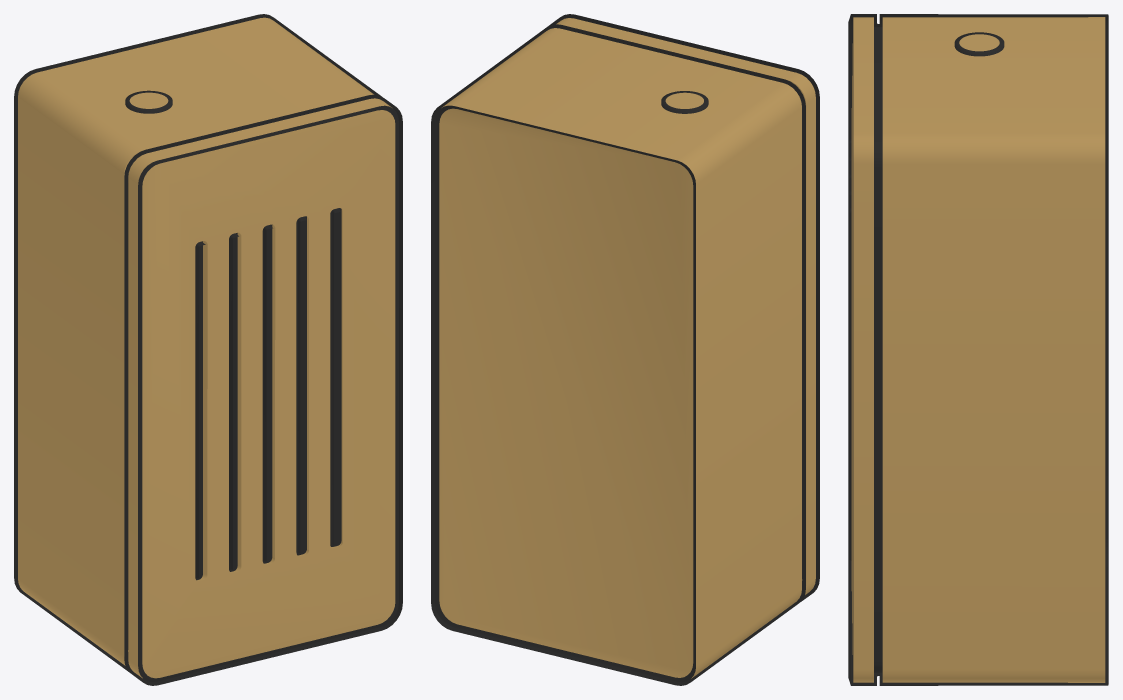
The model's file is Speaker.glb.
3 renders of one model, left to right at view 1: azimuth 30°, elevation 25°; view 2: azimuth 150°, elevation 25°; view 3: azimuth 270°, elevation 25°, orthographic. The views are drawn at different scales.
Parts seen in each view (by area): view 1: SPEAKER.001; view 2: SPEAKER.001; view 3: SPEAKER.001.
Part boxes in pixels (x1,y1,x2,y2): SPEAKER.001: [14, 14, 402, 685]; SPEAKER.001: [431, 14, 819, 685]; SPEAKER.001: [848, 14, 1108, 685].
Bounding box in the file's own units: 1.06 × 2.01 × 0.8573.
